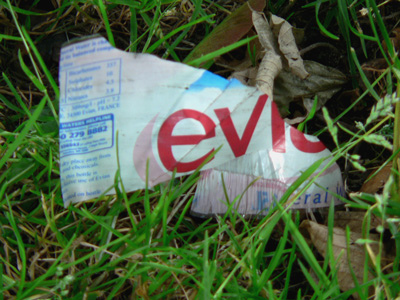litter: (57, 37, 346, 217)
